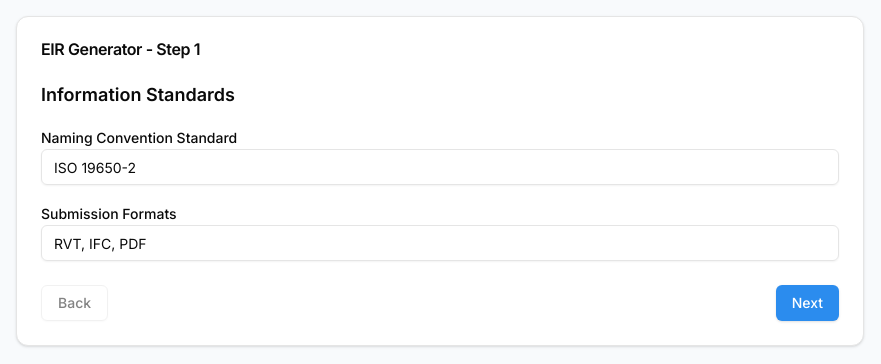
Test: EIRWizard › navigates to step 2 on Next click
Click the button "Next": click(807, 303) [776,285,839,321]
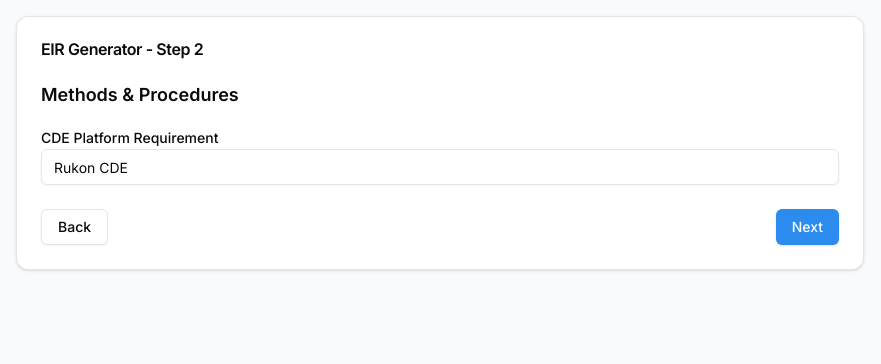
Now the text "EIR Generator - Step 2" is shown, box [41,39,203,59]
Now the heading "Methods & Procedures" is shown, box [41,84,239,105]
